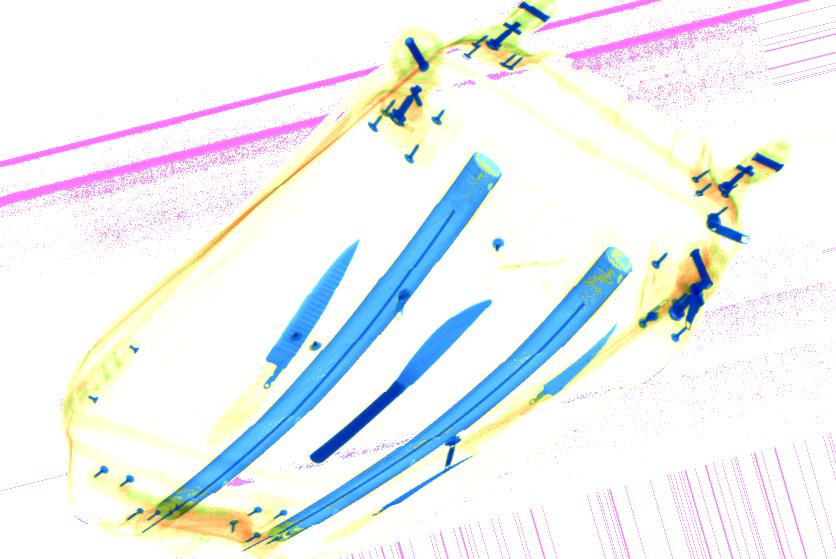Knife: (210, 237, 362, 446), (309, 299, 493, 464), (463, 321, 619, 455)
